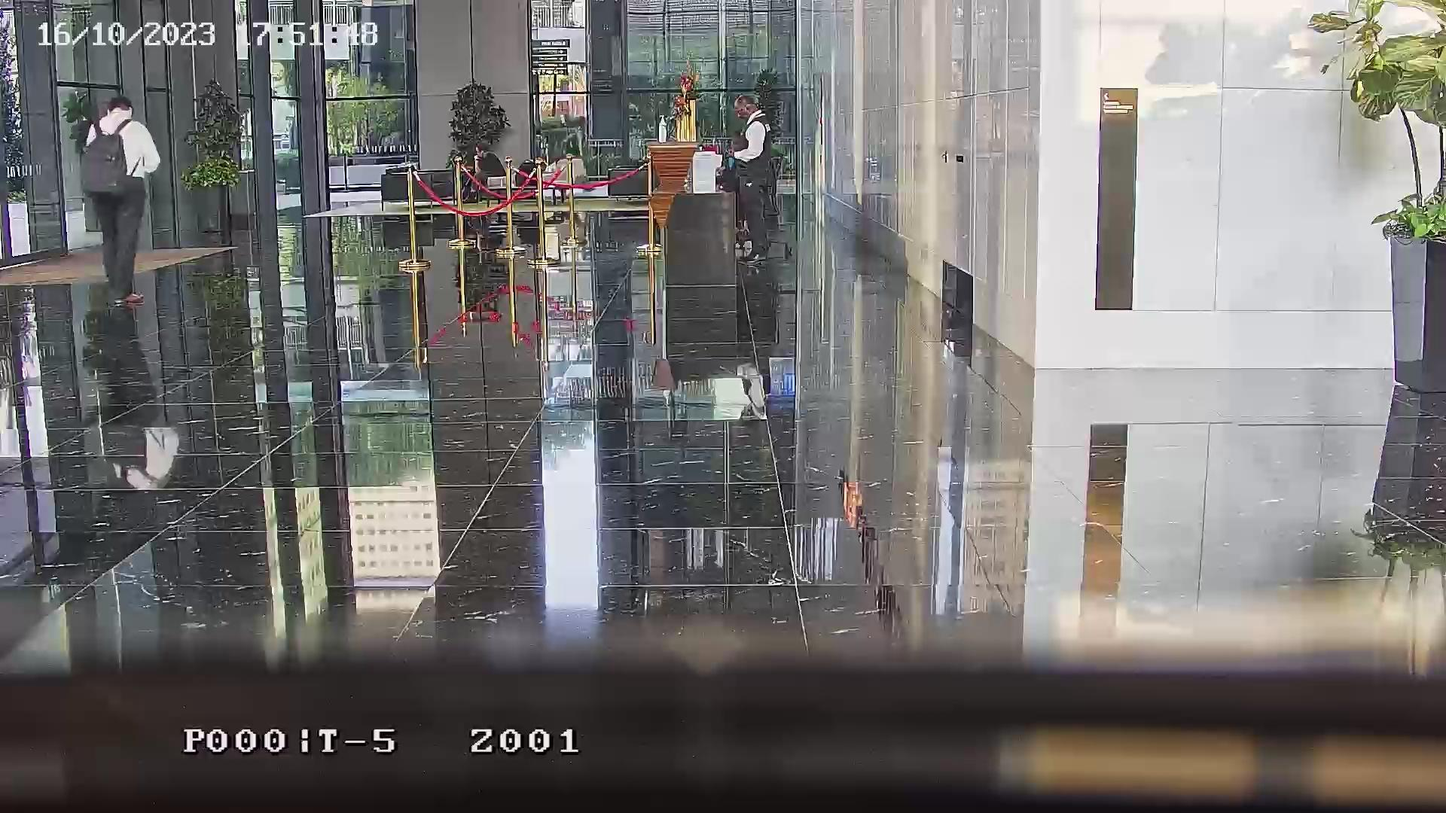person: (81, 95, 160, 309), (730, 95, 779, 257), (469, 142, 506, 202)
